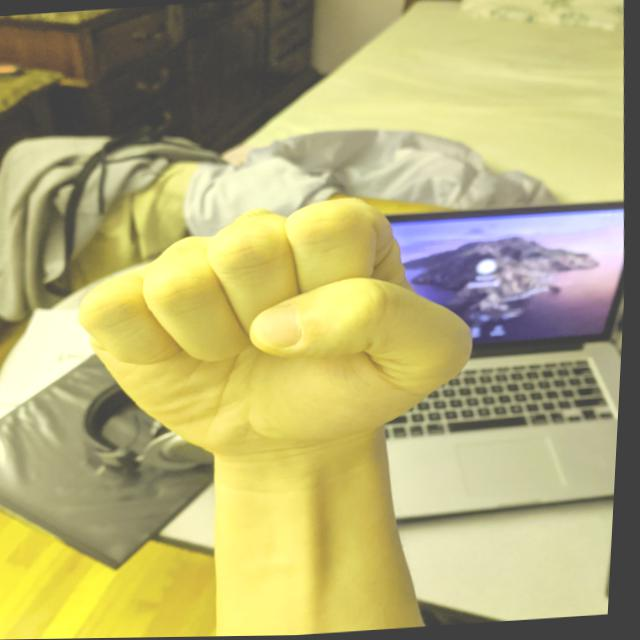S: (61, 181, 498, 476)
